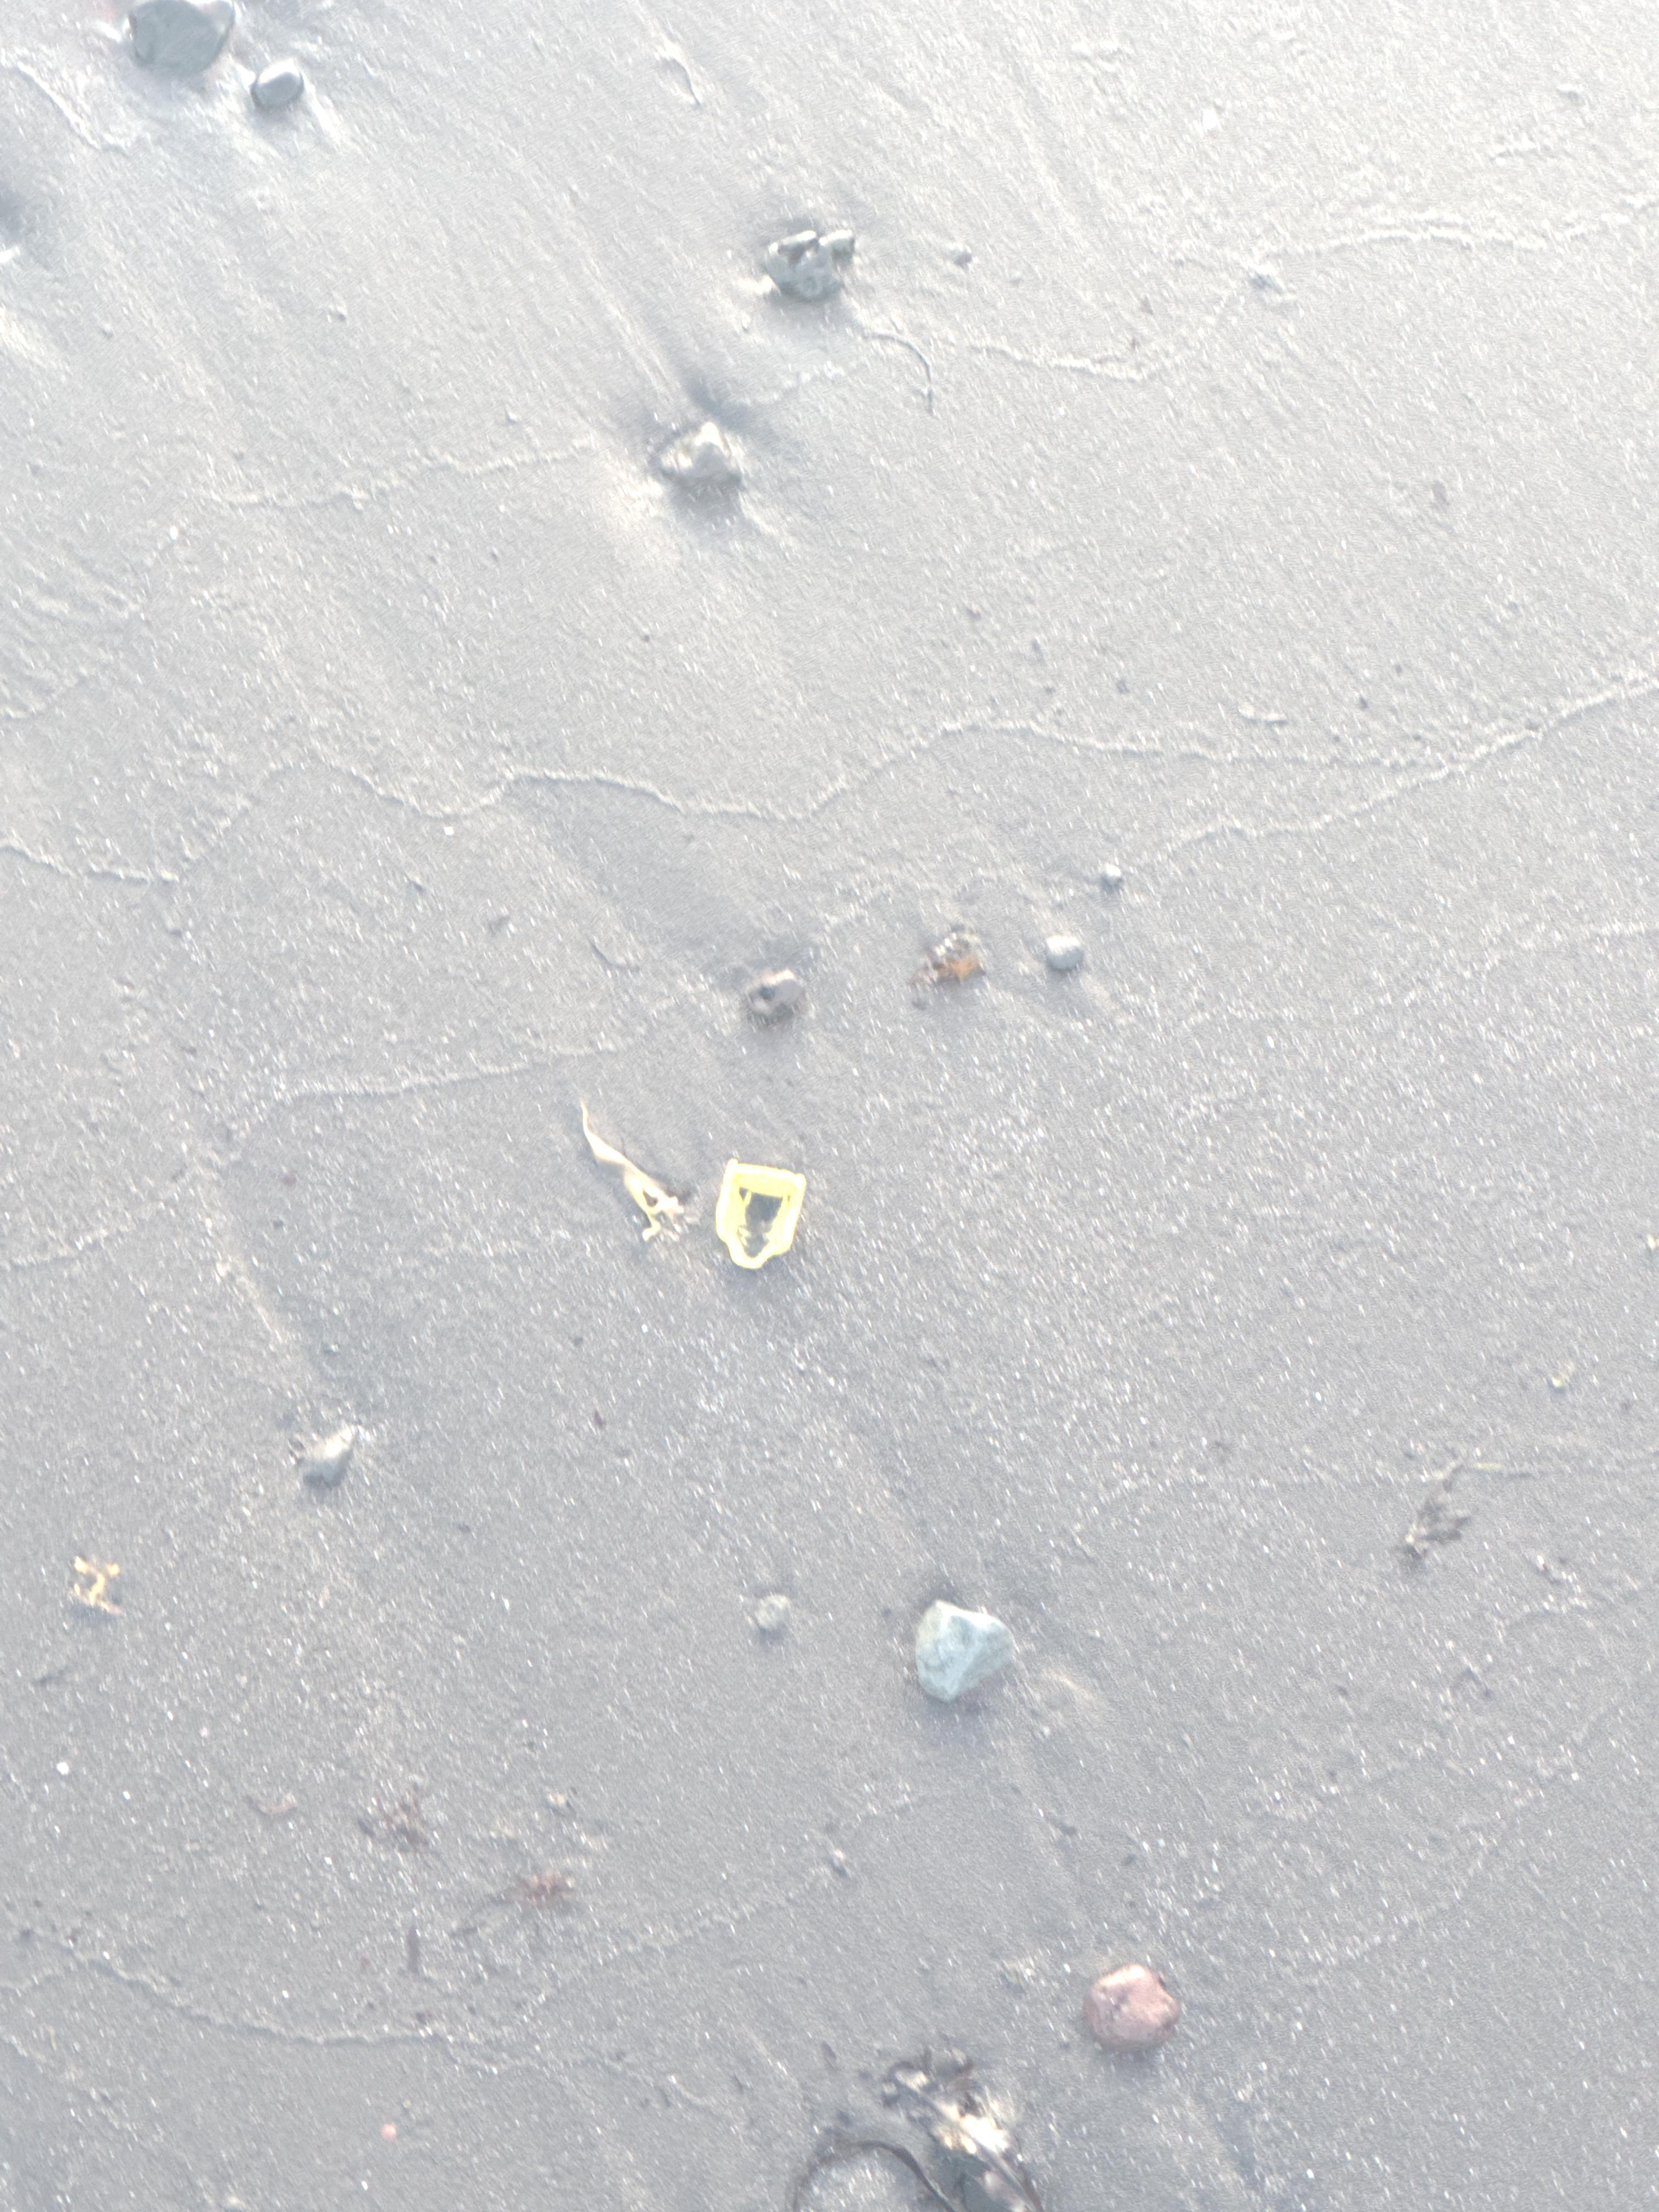trash: (584, 1109, 683, 1240), (718, 1158, 809, 1270), (713, 1162, 803, 1270)
